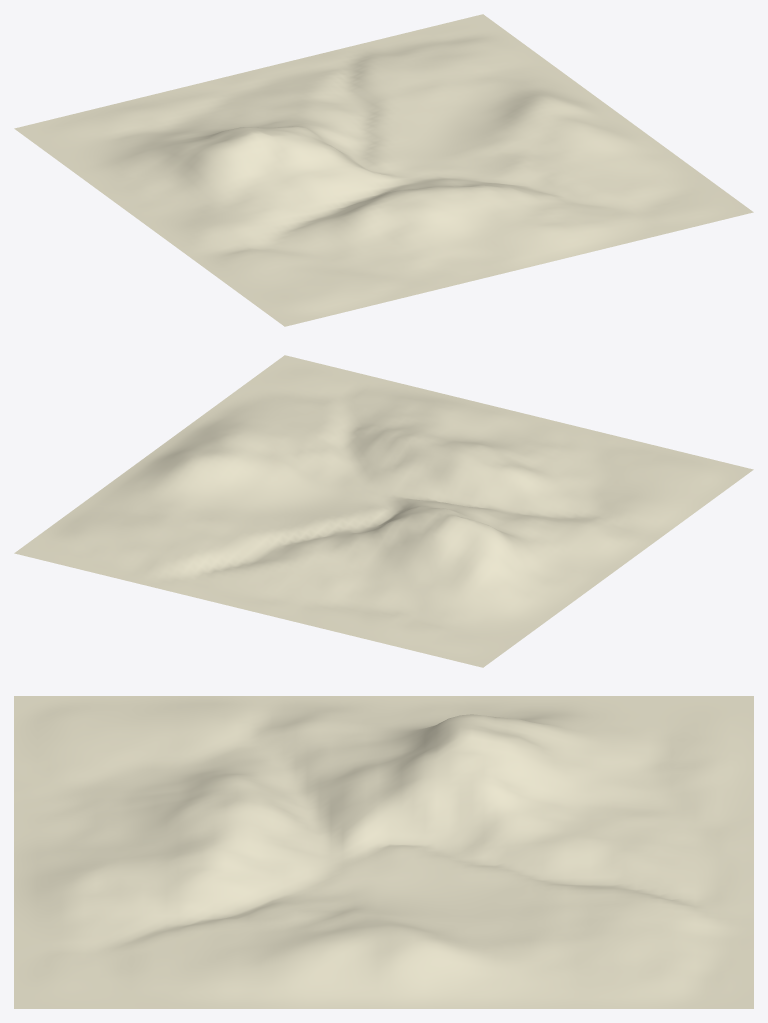
File: Landscape_C.glb
3 renders of one model, top to bottom at view 1: azimuth 30°, elevation 25°; view 2: azimuth 150°, elevation 25°; view 3: azimuth 270°, elevation 25°, orthographic. The views are drawn at different scales.
Parts seen in each view (by area): view 1: Landscape.011; view 2: Landscape.011; view 3: Landscape.011.
Part boxes in pixels (box(x1,y1,x2,y2)): Landscape.011: box(14, 14, 753, 326); Landscape.011: box(14, 355, 753, 667); Landscape.011: box(14, 696, 753, 1008).
Bounding box in the file's own units: 500 × 40.87 × 500.
